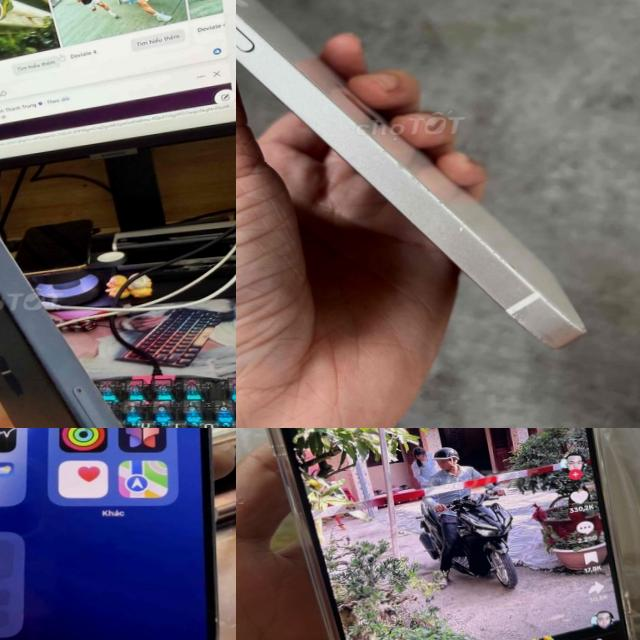gen_12_13: (236, 0, 593, 358)
gen_15: (236, 428, 640, 640), (0, 428, 236, 640)
gen_17: (0, 237, 125, 428)
